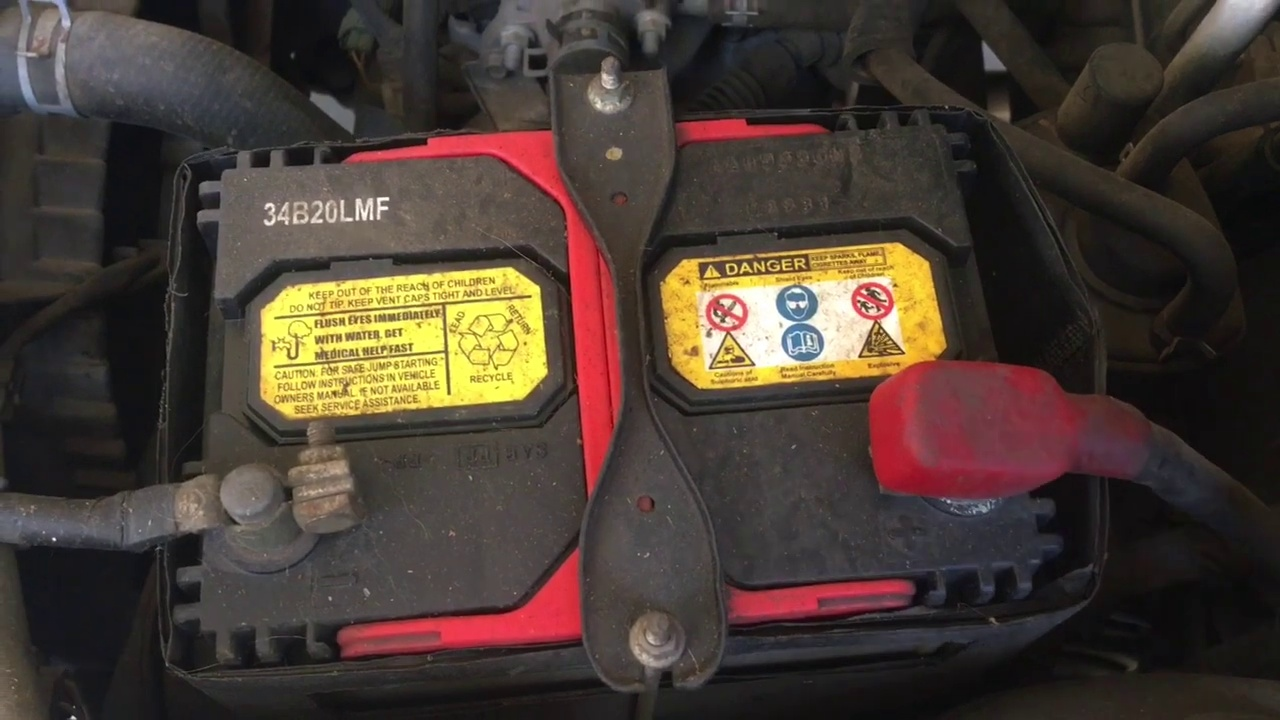battery: (151, 128, 1090, 664)
neg_connected: (126, 424, 377, 580)
pos_connected: (850, 333, 1166, 520)
